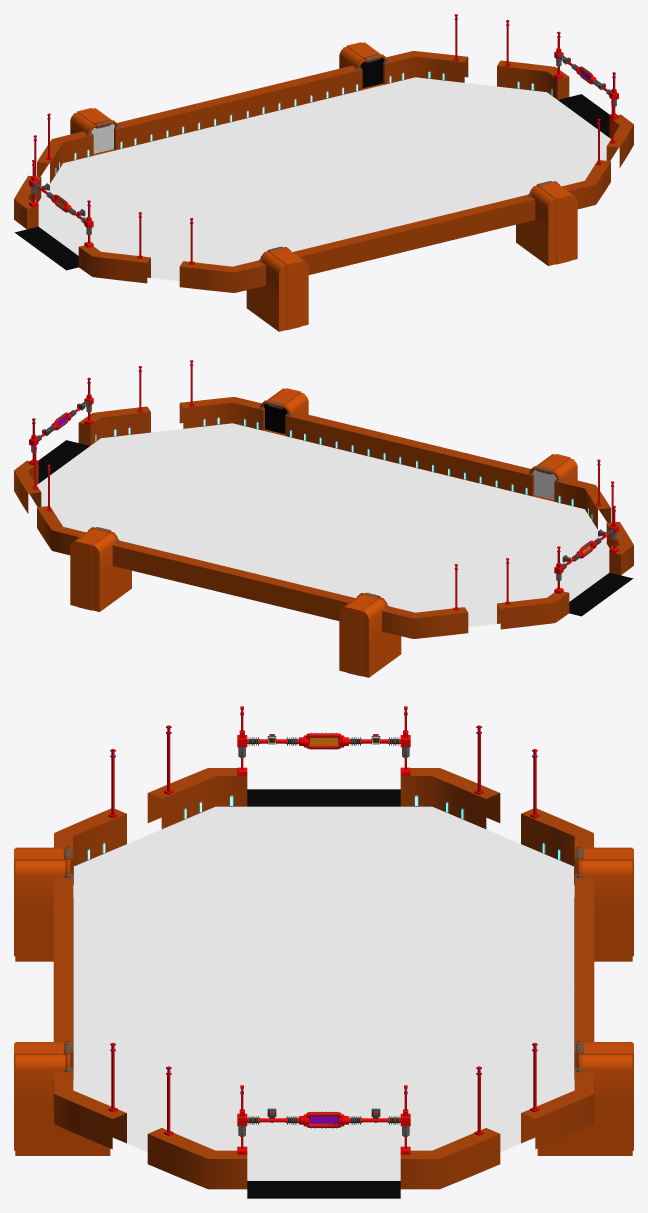
Rendered from mesh_Spaceship_Hockey_Map_Main.fbx.
The picture shows the model from 3 angles, top to bottom: view 1: azimuth 30°, elevation 25°; view 2: azimuth 150°, elevation 25°; view 3: azimuth 270°, elevation 25°; orthographic projection. The views are drawn at different scales.
Visible parts, largest first — view 1: CutedFloorBase.001, mesh_spaceship_Wall, mesh_spaceship_BarrelDoors, CutedFloorBase.024, CutedFloorBase.023, CutedFloorBase.026, CutedFloorBase.027, mesh_Spaceship_Hockey_Goal, CutedFloorBase.020, mesh_TubeLights, CutedFloorBase.018, CutedFloorBase.021; view 2: CutedFloorBase.001, mesh_spaceship_Wall, mesh_spaceship_BarrelDoors, CutedFloorBase.025, CutedFloorBase.022, CutedFloorBase.028, CutedFloorBase.029, mesh_Spaceship_Hockey_Goal, CutedFloorBase.021, mesh_TubeLights, CutedFloorBase.019, CutedFloorBase.020; view 3: CutedFloorBase.001, mesh_spaceship_Wall, mesh_spaceship_BarrelDoors, CutedFloorBase.022, CutedFloorBase.023, mesh_Spaceship_Hockey_Goal, CutedFloorBase.024, CutedFloorBase.025, CutedFloorBase.026, CutedFloorBase.029, CutedFloorBase.027, CutedFloorBase.028 (+3 smaller).
Boxes of the visible parts, box(x1,y1,x2,y2) form: CutedFloorBase.001: box(14, 94, 609, 270); mesh_spaceship_Wall: box(14, 51, 633, 292); mesh_spaceship_BarrelDoors: box(70, 42, 577, 331); CutedFloorBase.024: box(315, 77, 438, 119); CutedFloorBase.023: box(63, 138, 187, 180); CutedFloorBase.026: box(164, 120, 262, 156); CutedFloorBase.027: box(239, 102, 338, 137); mesh_Spaceship_Hockey_Goal: box(29, 48, 618, 247); CutedFloorBase.020: box(416, 77, 556, 99); mesh_TubeLights: box(32, 14, 615, 264); CutedFloorBase.018: box(38, 163, 86, 225); CutedFloorBase.021: box(561, 138, 610, 185); CutedFloorBase.001: box(38, 440, 633, 616); mesh_spaceship_Wall: box(14, 397, 633, 638); mesh_spaceship_BarrelDoors: box(70, 388, 577, 677); CutedFloorBase.025: box(209, 423, 332, 465); CutedFloorBase.022: box(460, 484, 584, 526); CutedFloorBase.028: box(309, 448, 408, 483); CutedFloorBase.029: box(385, 466, 483, 502); mesh_Spaceship_Hockey_Goal: box(29, 394, 618, 593); CutedFloorBase.021: box(91, 423, 231, 445); mesh_TubeLights: box(32, 360, 615, 610); CutedFloorBase.019: box(561, 509, 609, 571); CutedFloorBase.020: box(37, 484, 86, 531); CutedFloorBase.001: box(145, 789, 502, 1198); mesh_spaceship_Wall: box(53, 768, 594, 1189); mesh_spaceship_BarrelDoors: box(14, 847, 633, 1155); CutedFloorBase.022: box(73, 866, 144, 939); CutedFloorBase.023: box(503, 866, 574, 939); mesh_Spaceship_Hockey_Goal: box(237, 730, 410, 1154); CutedFloorBase.024: box(503, 1048, 574, 1120); CutedFloorBase.025: box(73, 1048, 144, 1120); CutedFloorBase.026: box(503, 939, 574, 993); CutedFloorBase.029: box(73, 939, 144, 993); CutedFloorBase.027: box(503, 994, 574, 1048); CutedFloorBase.028: box(73, 994, 144, 1048).
Size of the model in its own units: 62.77 by 10.84 by 40.18.
